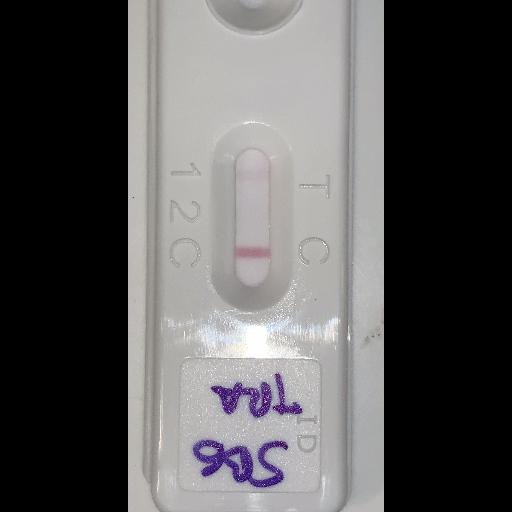Pos: (127, 0, 349, 511)
